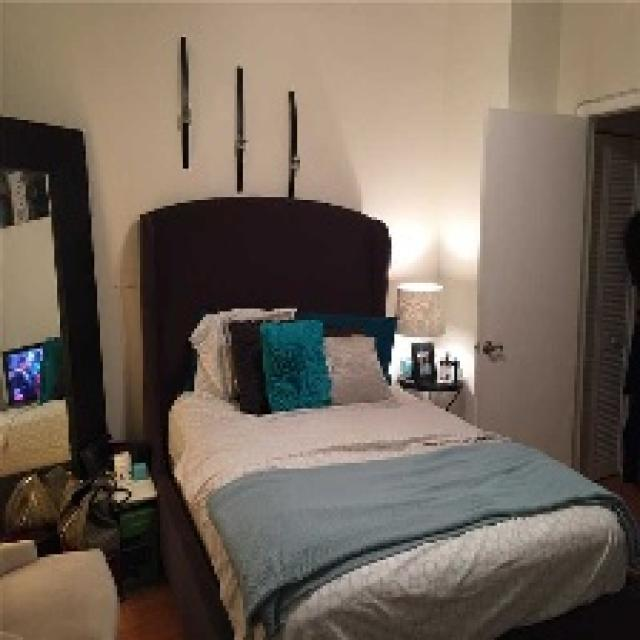Bed: (140, 197, 640, 640)
